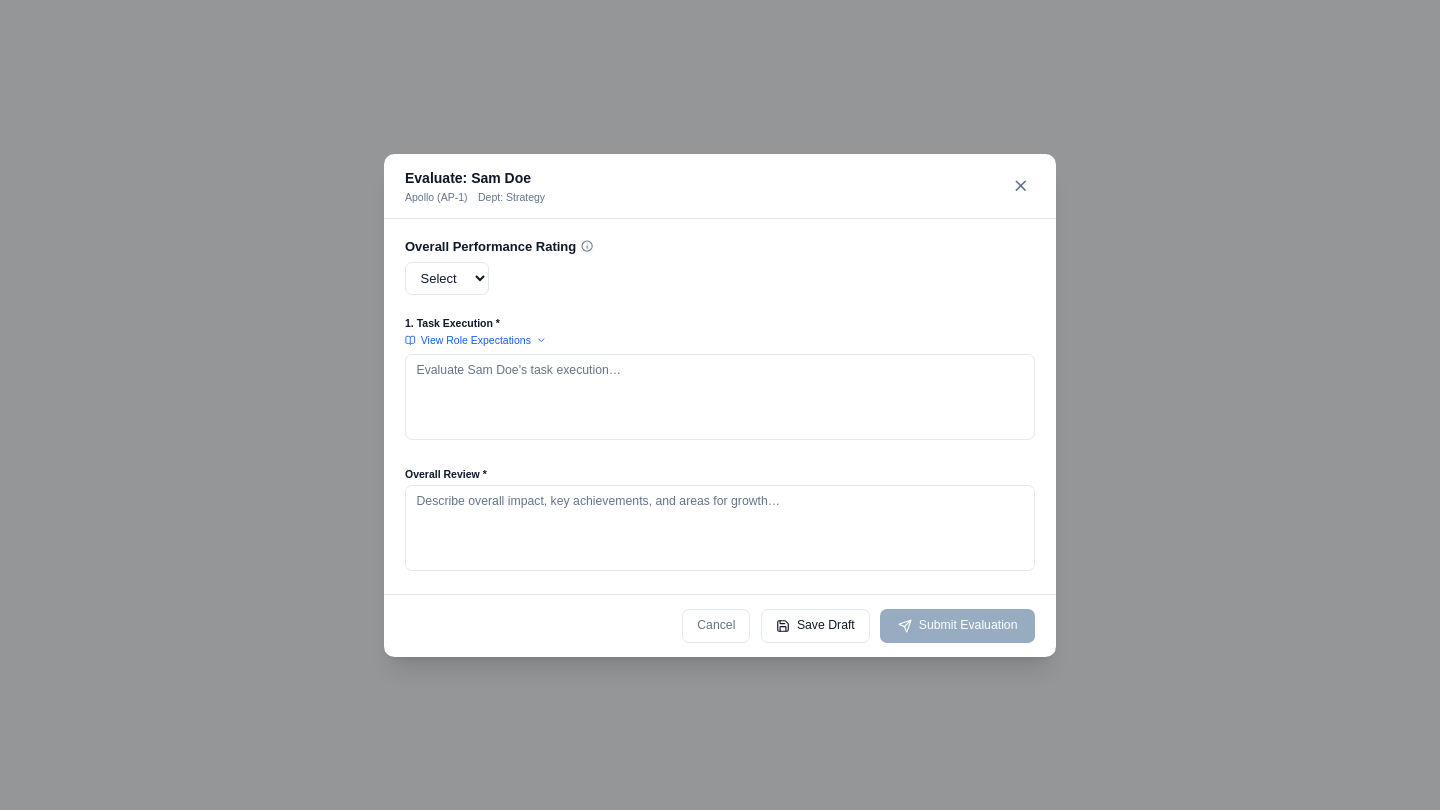
Test: EvalModal — dynamic competency rendering › shows the competency's seeded expectation text (framework activation)
Click the button "View Role Expectations": (476, 340) [405,333,547,347]
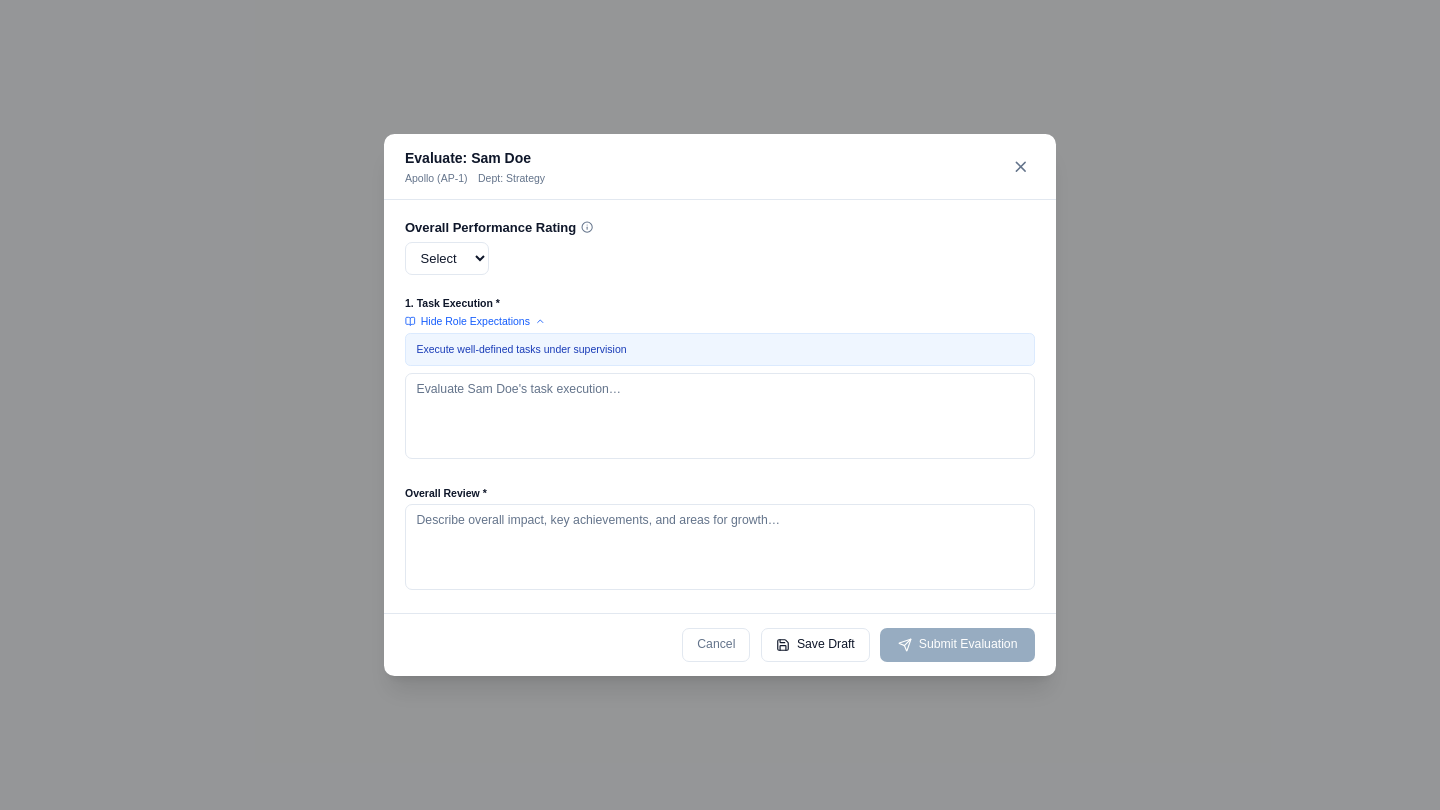
Check: the text "Execute well-defined tasks under supervision" is shown, box [416,343,627,355]
